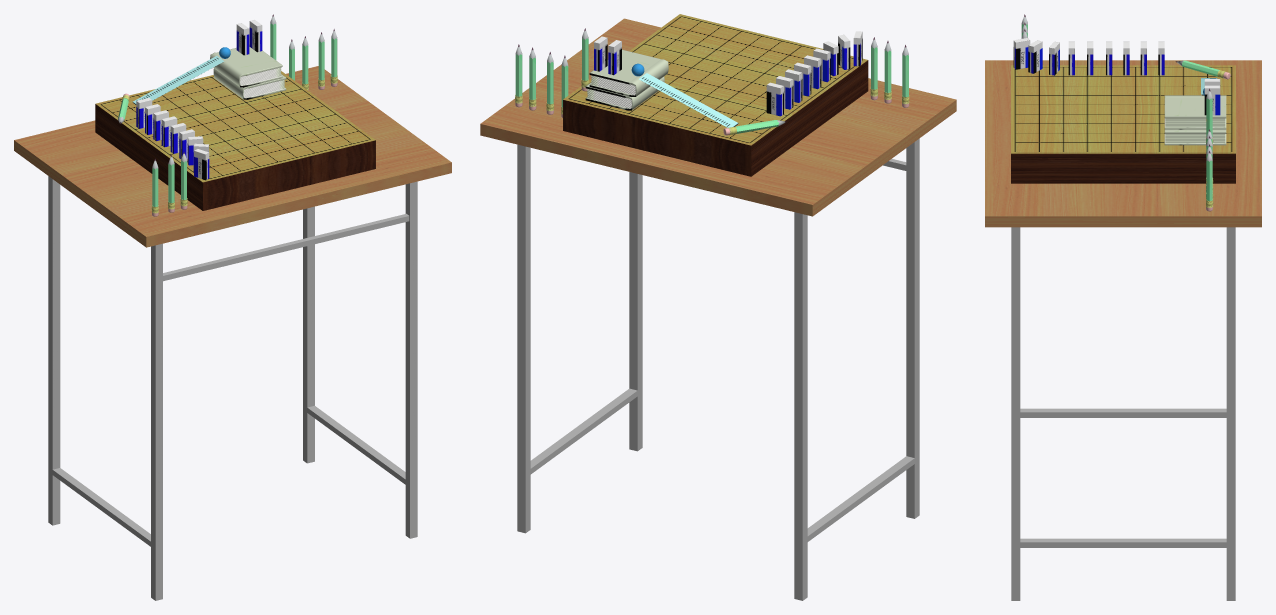
Rendered from slider_on_desk_limes_v7.glb.
The picture shows the model from 3 angles, left to right: view 1: azimuth 30°, elevation 25°; view 2: azimuth 150°, elevation 25°; view 3: azimuth 270°, elevation 25°; orthographic projection. The views are drawn at different scales.
Visible parts, largest first — view 1: board, desk_top, desk_leg2, desk_leg3, desk_leg4, desk_leg1, desk_bar_top_1to3, book02, desk_bar_bottom_1to2, desk_bar_bottom_3to4, book01, Ruler; view 2: board, desk_top, desk_leg3, desk_leg1, desk_leg4, desk_leg2, book02, desk_bar_bottom_1to2, desk_bar_bottom_3to4, Ruler, book01; view 3: board, desk_top, desk_leg2, desk_leg1, desk_bar_bottom_1to2, desk_bar_bottom_3to4, book02, book01, Eraser11, Eraser10, Dwarf_Pencil06, Eraser01 (+1 smaller).
Part boxes in pixels (bbox=[...]): board: bbox=[95, 71, 375, 210]; desk_top: bbox=[14, 66, 451, 247]; desk_leg2: bbox=[405, 181, 417, 538]; desk_leg3: bbox=[48, 176, 60, 525]; desk_leg4: bbox=[151, 243, 162, 600]; desk_leg1: bbox=[303, 206, 314, 463]; desk_bar_top_1to3: bbox=[163, 213, 409, 281]; book02: bbox=[210, 45, 282, 87]; desk_bar_bottom_1to2: bbox=[305, 405, 407, 486]; desk_bar_bottom_3to4: bbox=[50, 468, 150, 546]; book01: bbox=[213, 68, 286, 99]; Ruler: bbox=[132, 56, 224, 104]; board: bbox=[563, 14, 868, 176]; desk_top: bbox=[480, 18, 956, 216]; desk_leg3: bbox=[794, 212, 807, 600]; desk_leg1: bbox=[517, 144, 530, 533]; desk_leg4: bbox=[906, 138, 919, 518]; desk_leg2: bbox=[629, 172, 642, 451]; book02: bbox=[589, 49, 668, 96]; desk_bar_bottom_1to2: bbox=[528, 388, 637, 476]; desk_bar_bottom_3to4: bbox=[807, 456, 916, 541]; Ruler: bbox=[639, 73, 738, 127]; book01: bbox=[585, 76, 664, 110]; board: bbox=[1011, 65, 1235, 183]; desk_top: bbox=[985, 60, 1261, 227]; desk_leg2: bbox=[1011, 227, 1020, 600]; desk_leg1: bbox=[1226, 227, 1235, 600]; desk_bar_bottom_1to2: bbox=[1016, 538, 1230, 547]; desk_bar_bottom_3to4: bbox=[1020, 408, 1226, 417]; book02: bbox=[1164, 95, 1226, 129]; book01: bbox=[1164, 129, 1226, 145]; Eraser11: bbox=[1013, 38, 1030, 69]; Eraser10: bbox=[1028, 40, 1042, 73]; Dwarf_Pencil06: bbox=[1175, 60, 1230, 79]; Eraser01: bbox=[1204, 85, 1220, 115].
Bounding box in the file's own units: 12 × 17.48 × 9.
19 materials, 17 textured.
